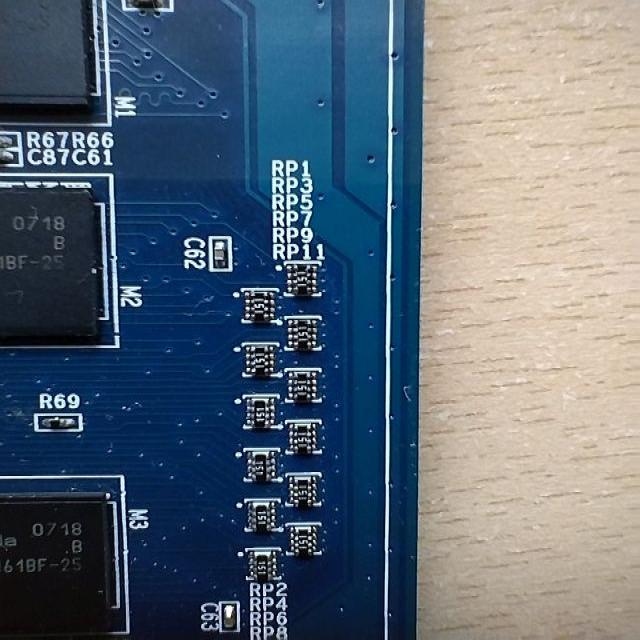capacitor: (209, 235, 227, 270), (217, 600, 244, 623)
resistor: (40, 403, 88, 438), (239, 287, 281, 325), (290, 411, 317, 460), (241, 495, 279, 528), (242, 396, 278, 429), (242, 346, 280, 376), (292, 524, 326, 557), (286, 376, 322, 407), (286, 255, 314, 294), (250, 551, 289, 578), (287, 316, 321, 345), (287, 477, 313, 514), (244, 446, 274, 478)
